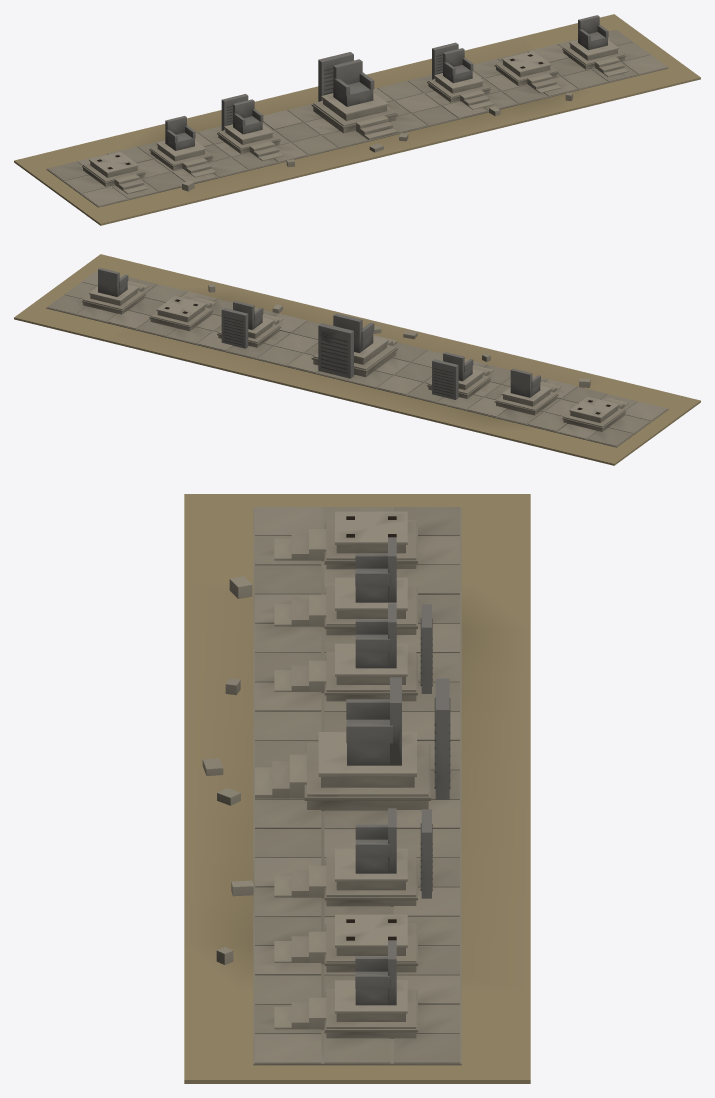
The model's file is coronation-thrones.glb.
3 renders of one model, top to bottom at view 1: azimuth 30°, elevation 25°; view 2: azimuth 150°, elevation 25°; view 3: azimuth 270°, elevation 25°, orthographic. The views are drawn at different scales.
Visible parts, largest first — view 1: p0_ground, p1_thrones; view 2: p0_ground, p1_thrones; view 3: p0_ground, p1_thrones.
Boxes of the visible parts, box(x1,y1,x2,y2) form: p0_ground: box(14, 14, 700, 225); p1_thrones: box(82, 15, 628, 194); p0_ground: box(14, 254, 700, 465); p1_thrones: box(82, 268, 628, 431); p0_ground: box(184, 494, 530, 1083); p1_thrones: box(202, 511, 450, 1038).
Bounding box in the file's own units: 40 × 3.21 × 10.
